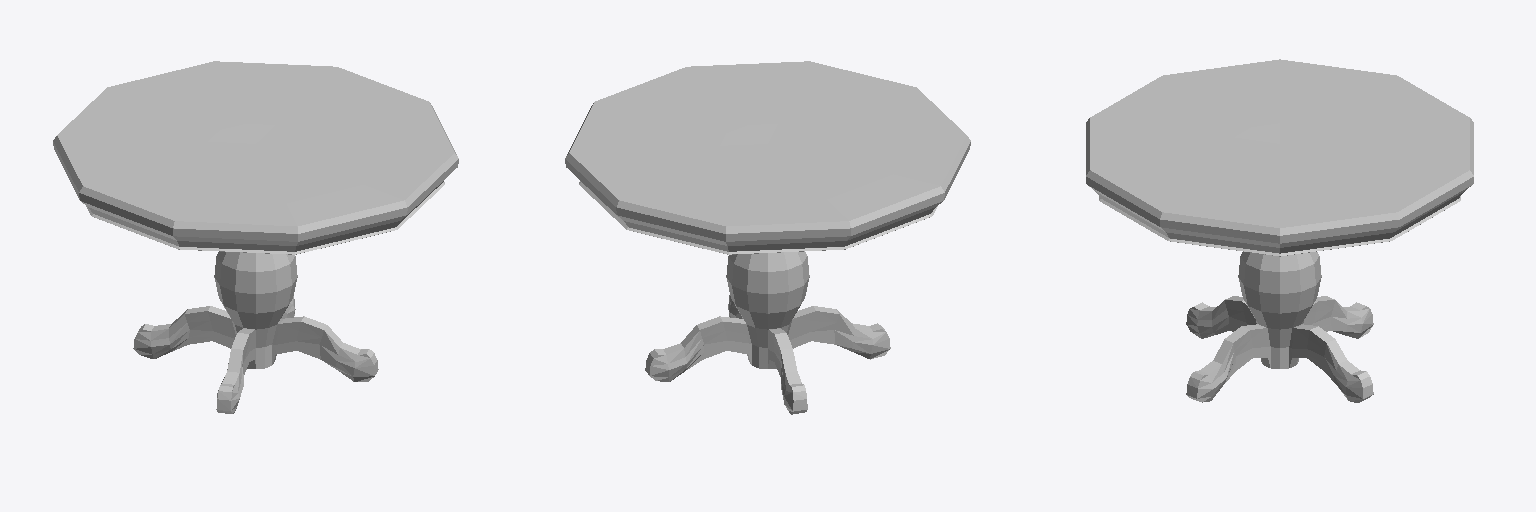
The model's file is Table.obj.
3 views of the same model, side by side, from view 1: azimuth 30°, elevation 25°; view 2: azimuth 150°, elevation 25°; view 3: azimuth 270°, elevation 25° (orthographic).
Visible parts, largest first — view 1: polySurface7; view 2: polySurface7; view 3: polySurface7.
Part boxes in pixels (bbox=[...]): polySurface7: bbox=[53, 61, 458, 413]; polySurface7: bbox=[565, 61, 970, 414]; polySurface7: bbox=[1086, 59, 1473, 402].
Bounding box in the file's own units: 187 × 113 × 178.